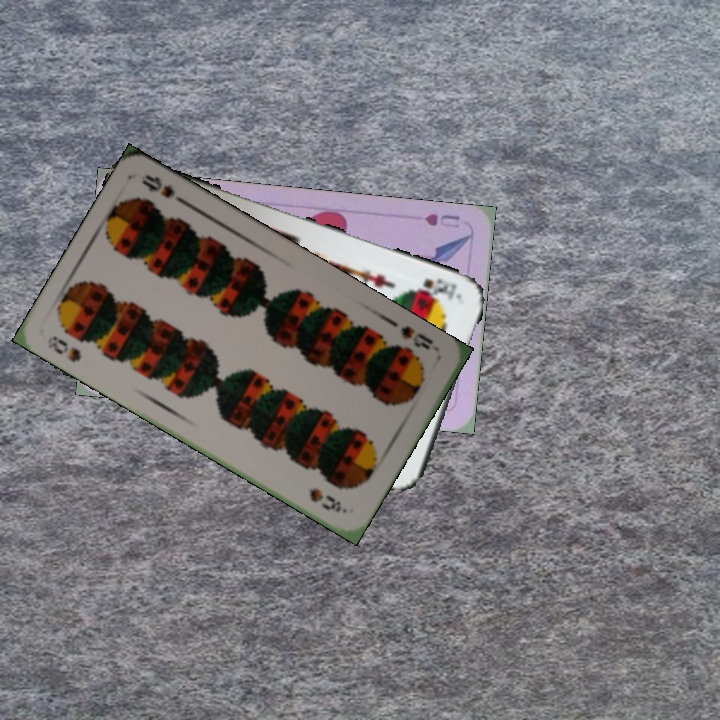HU: (420, 209, 463, 231)
S8: (397, 322, 442, 354), (43, 331, 84, 365)
SK: (414, 274, 460, 304)
